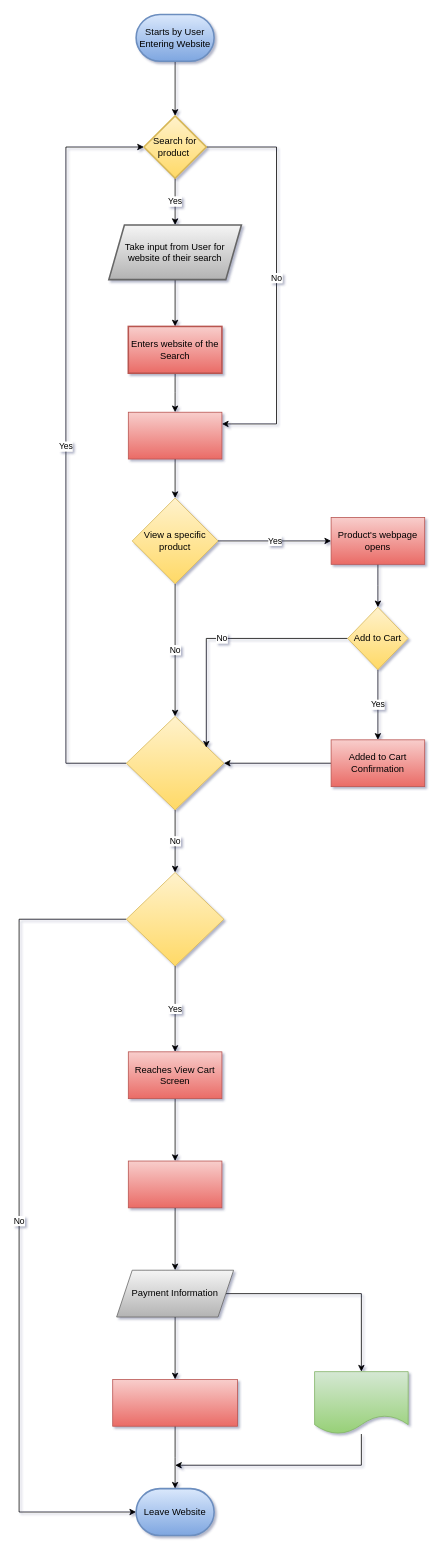
Some shapes in this 443 by 1554 pixel diagram are drawn without their labels. Each missing label, with the centre of its shape:
Checkout: the point at 175,919
Continue Shopping: the point at 175,763
Reaches View Payment Screen: the point at 175,1184
Receive Email of Order Confirmation: the point at 361,1402
User begins looking at products in the page they are on: the point at 175,435
View the Order Confirmation Screen: the point at 175,1402
